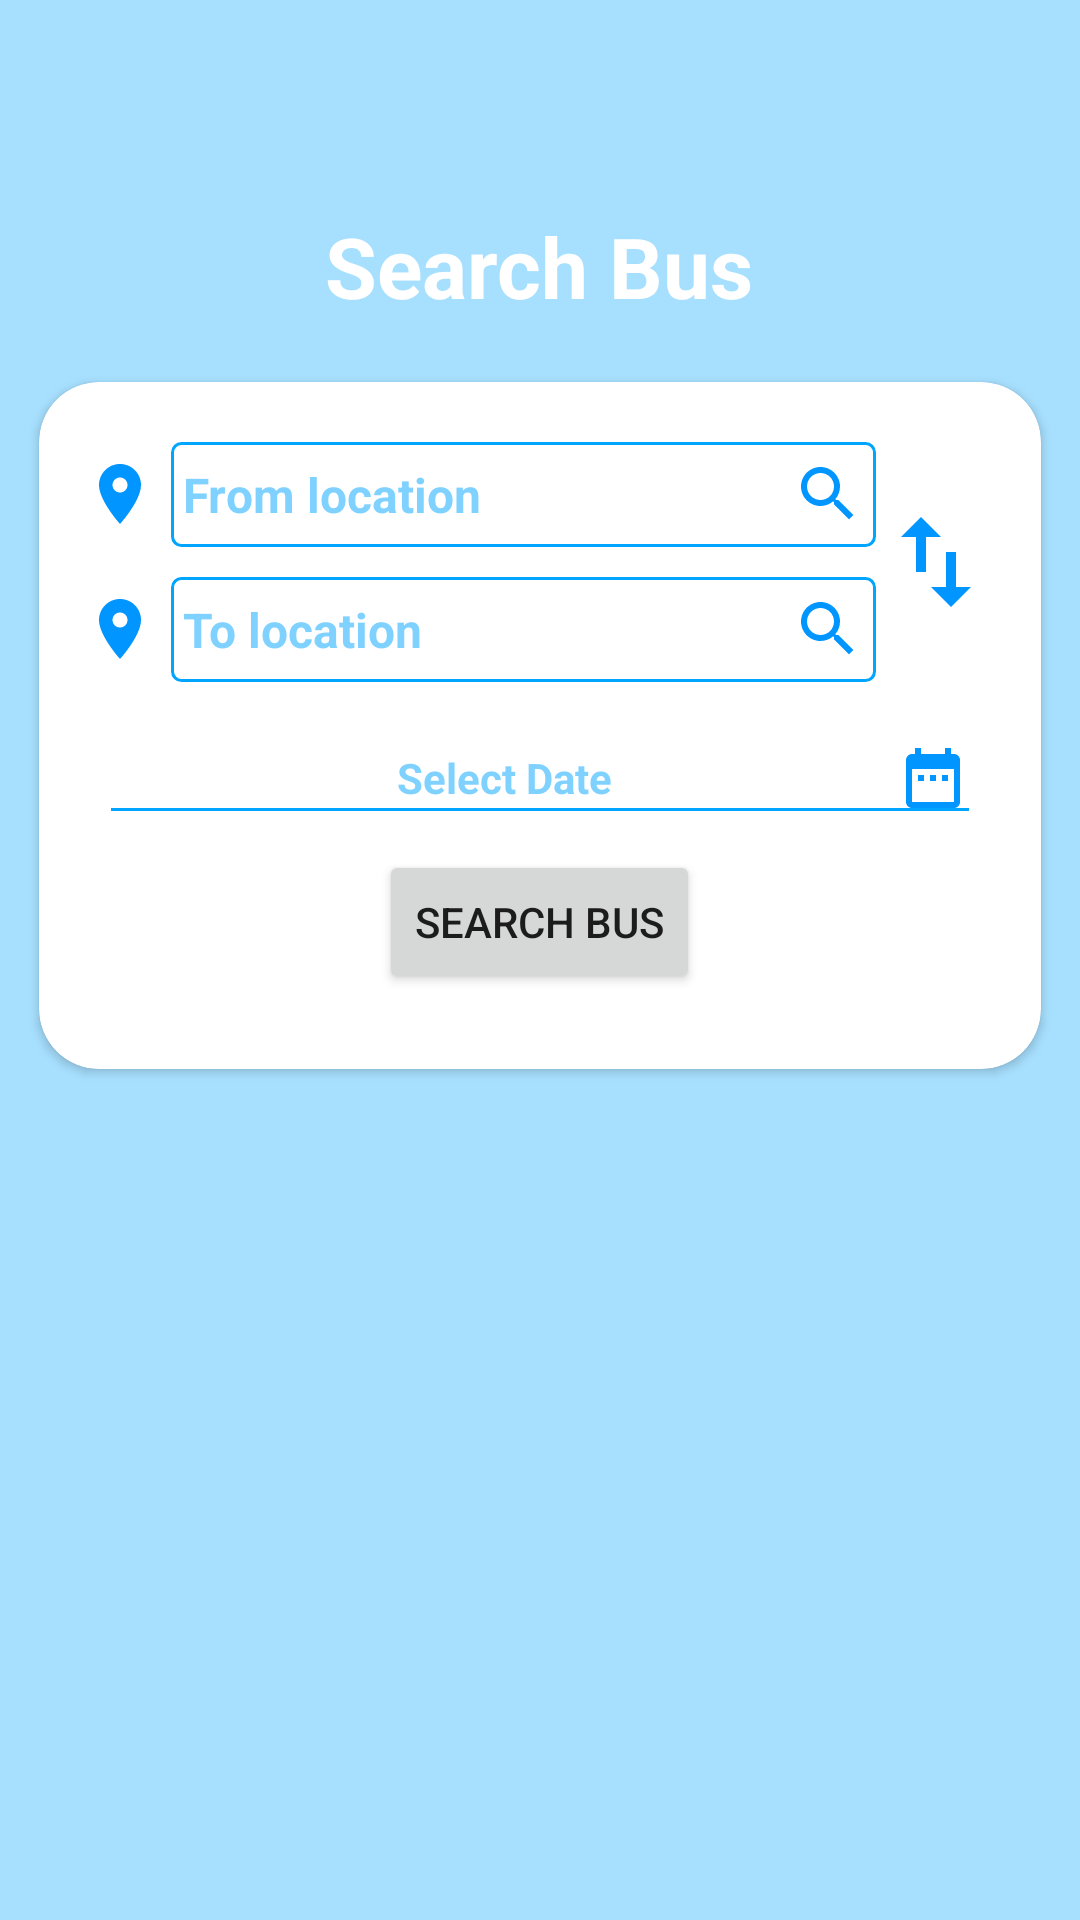

Screen size 1080w x 1920h. Icon name, then its box in pixels as (x1, y1, x2, y2):
swap: (901, 517, 971, 607)
